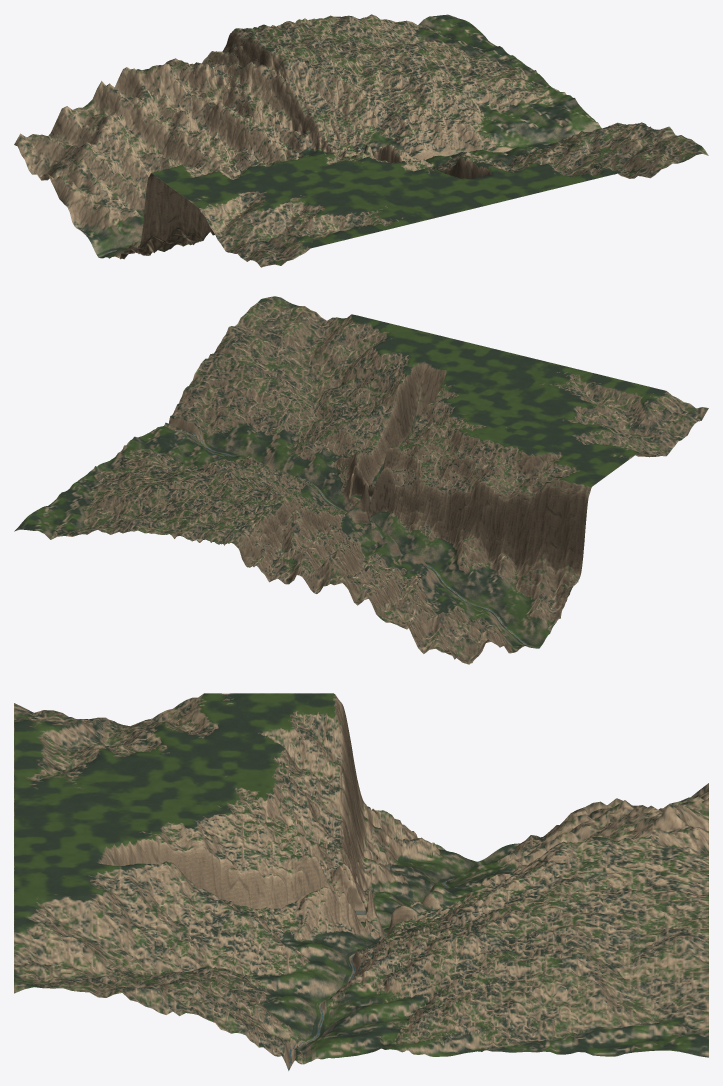
Rendered from Gorge_LOD0.fbx.
3 views of the same model, one above another, from view 1: azimuth 30°, elevation 25°; view 2: azimuth 150°, elevation 25°; view 3: azimuth 270°, elevation 25° (orthographic). The views are drawn at different scales.
Parts seen in each view (by area): view 1: Gorge_LOD0; view 2: Gorge_LOD0; view 3: Gorge_LOD0.
Boxes of the visible parts, x1,y1,x2,y2 form: Gorge_LOD0: (14,14,708,267); Gorge_LOD0: (14,296,708,664); Gorge_LOD0: (14,693,708,1070).
Size of the model in its own units: 256000 by 68448 by 256000.
Materials: 1 (1 with a texture image).
